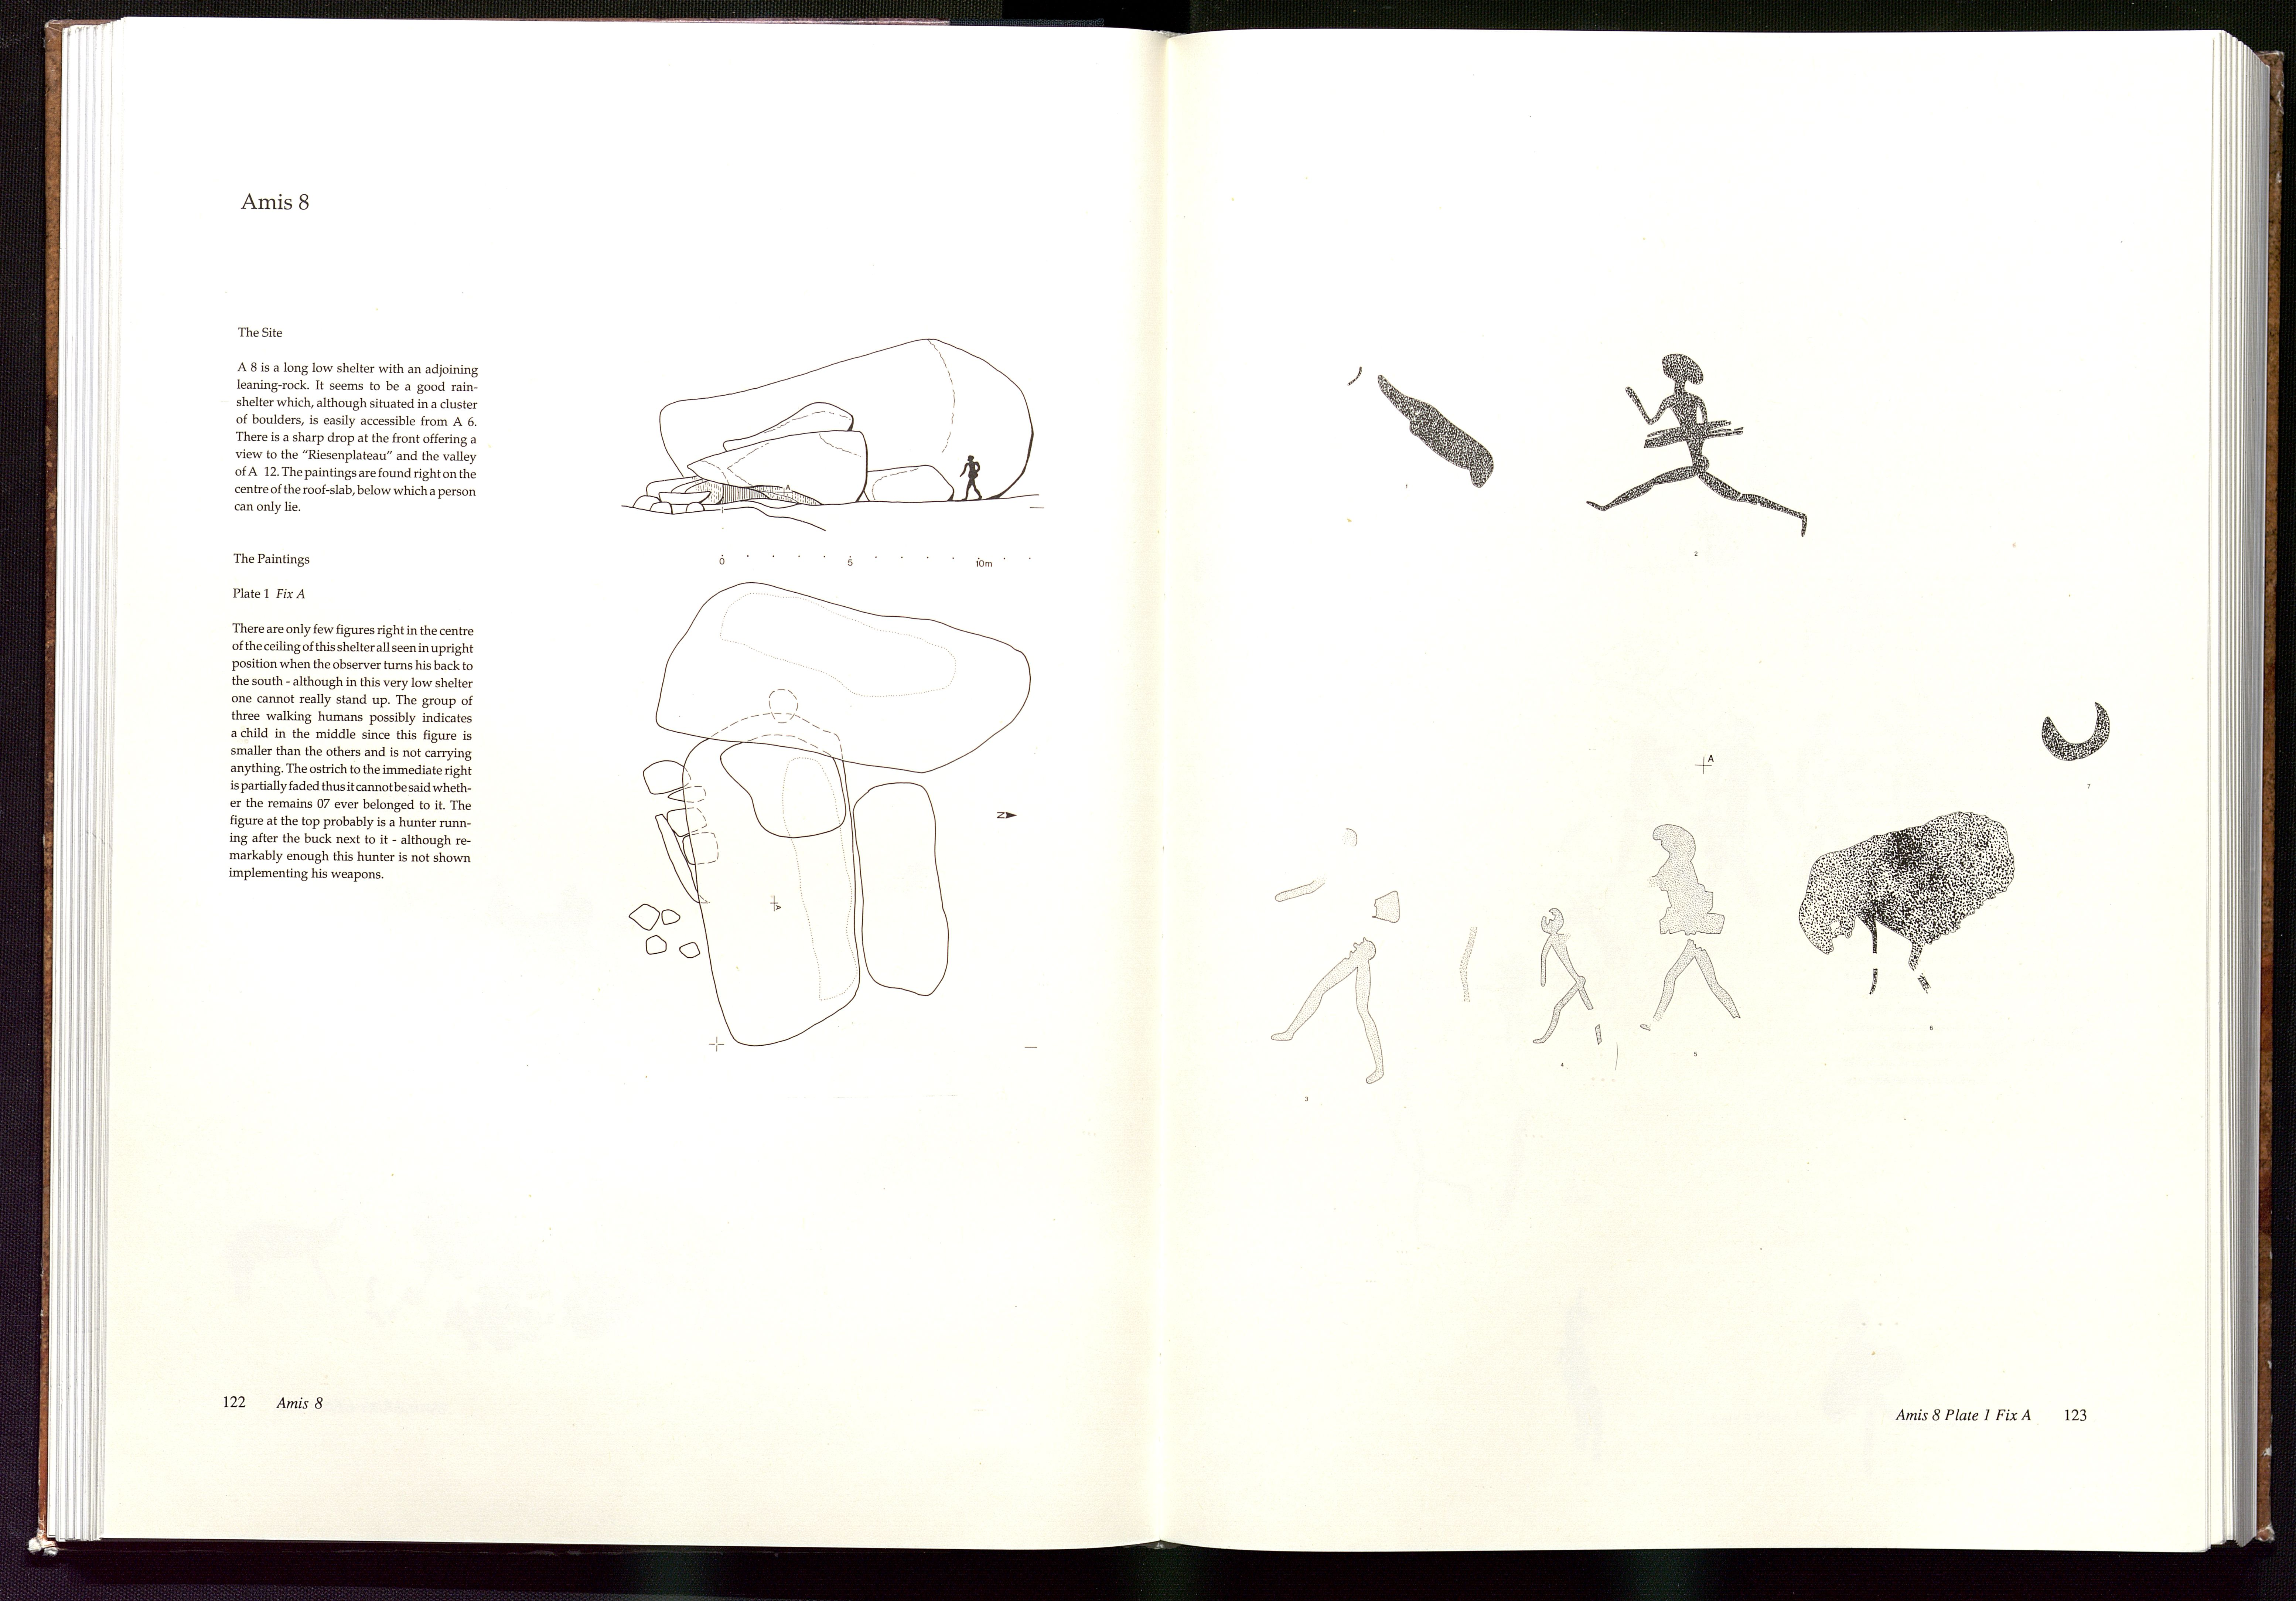human: (1584, 351, 1810, 539), (1271, 827, 1401, 1086), (1638, 824, 1743, 1032), (1532, 908, 1604, 1048)
